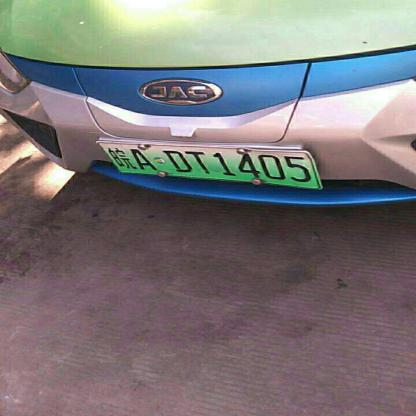lp: (97, 142, 320, 190)
